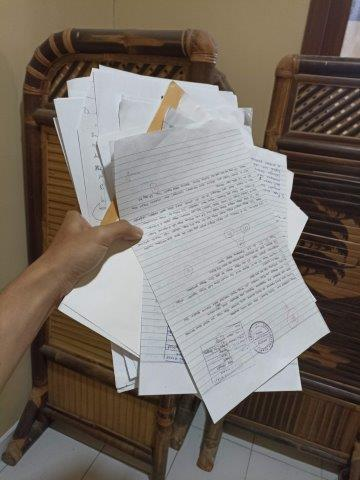kertas: (53, 64, 330, 423)
